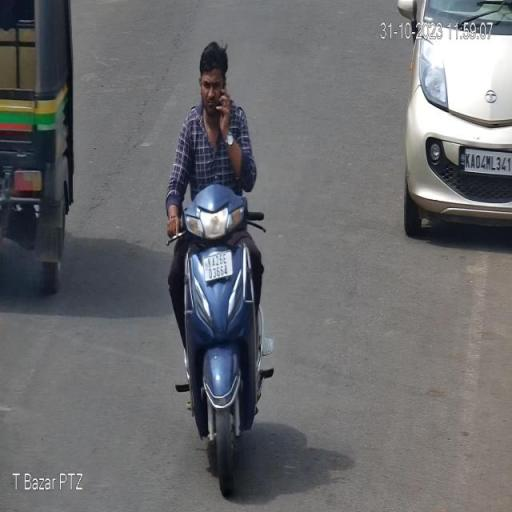using mobile: (220, 71, 230, 138)
